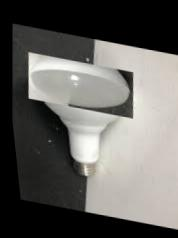Fan: (22, 51, 136, 117)
